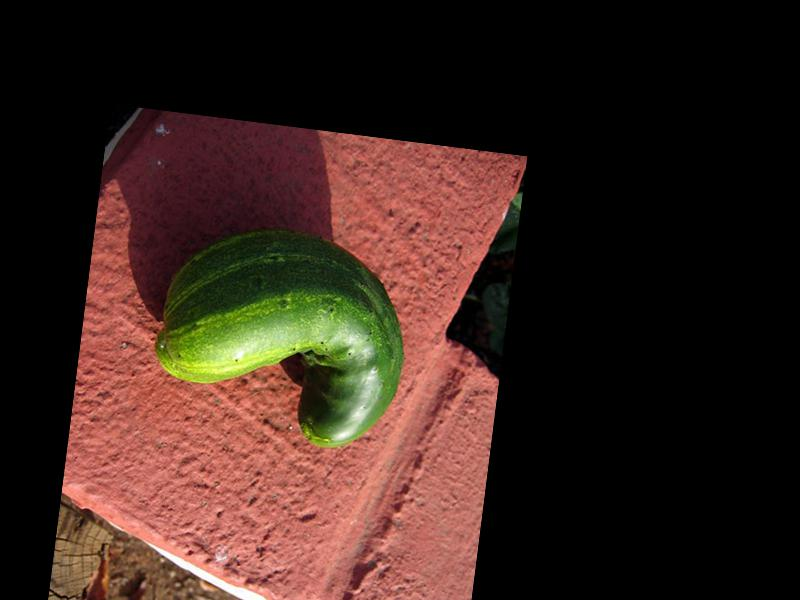Cucumber: (146, 217, 417, 457)
